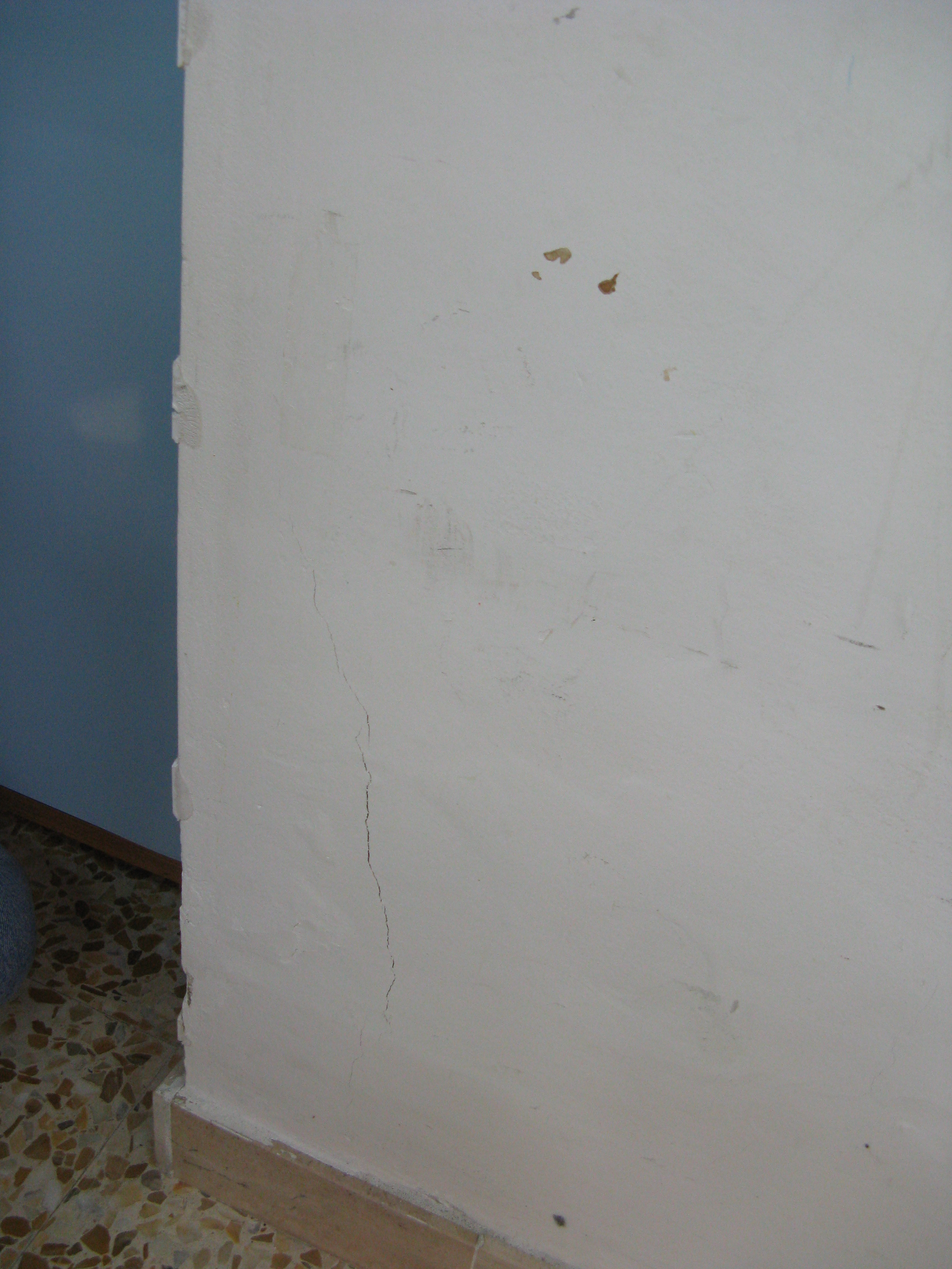Crack: (217, 418, 470, 1072)
